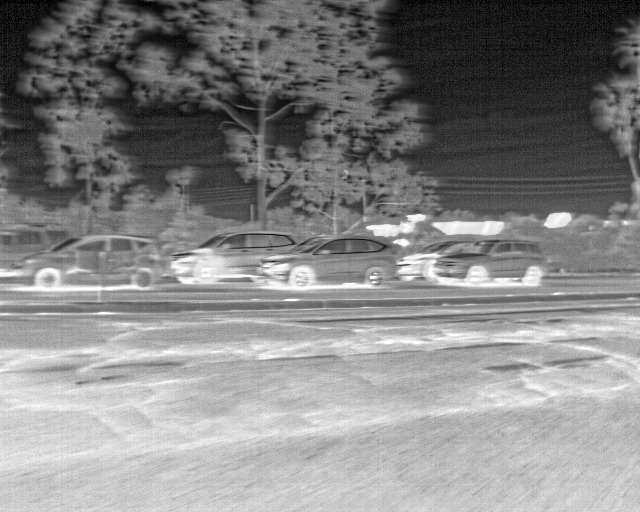vehicle: (260, 235, 397, 291), (31, 236, 162, 292), (432, 236, 549, 293), (176, 231, 293, 288)
